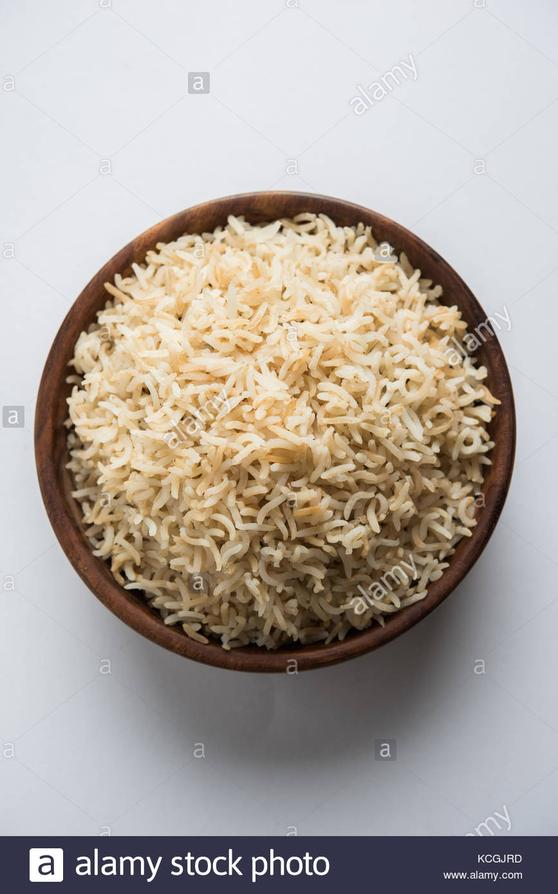rice: (41, 189, 524, 692)
